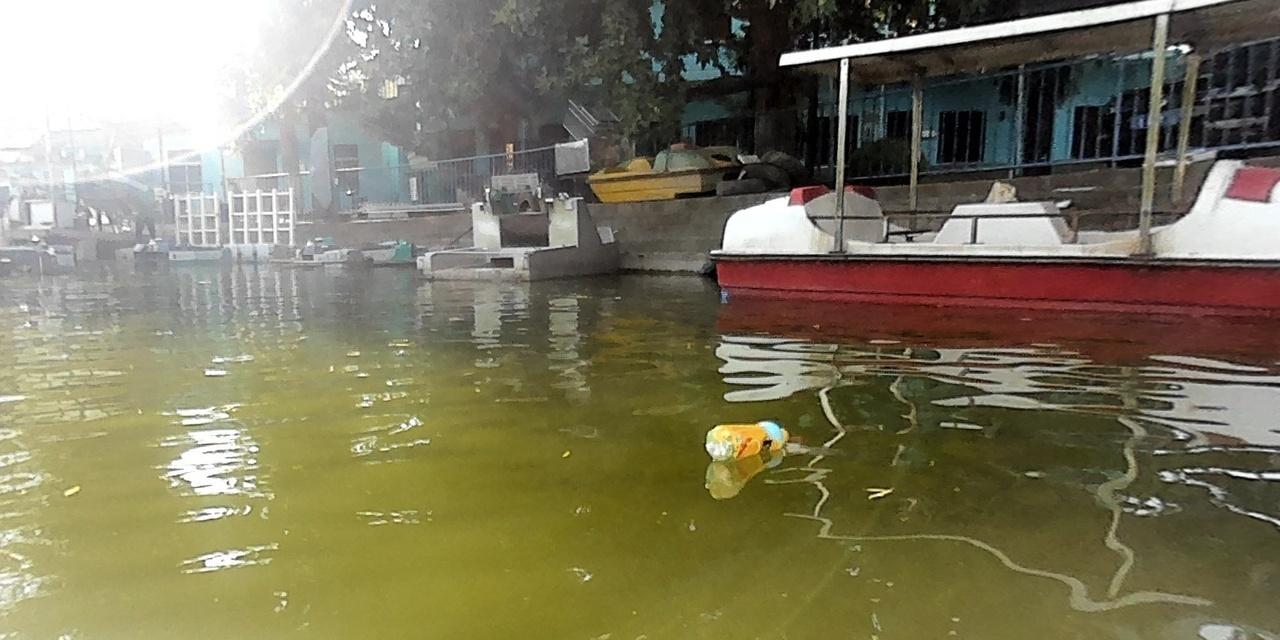bottle: (705, 417, 788, 456)
